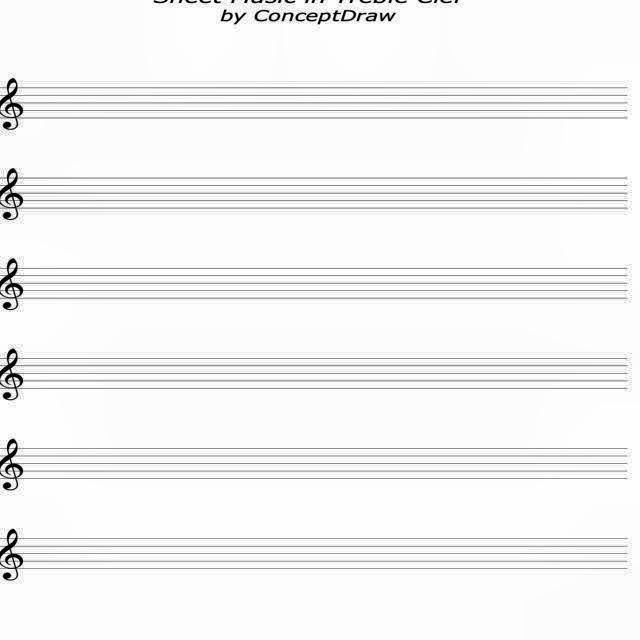Treble-clef: (0, 255, 26, 312), (0, 76, 26, 132), (0, 436, 26, 492), (0, 346, 26, 400), (0, 526, 24, 582), (1, 164, 23, 222)
